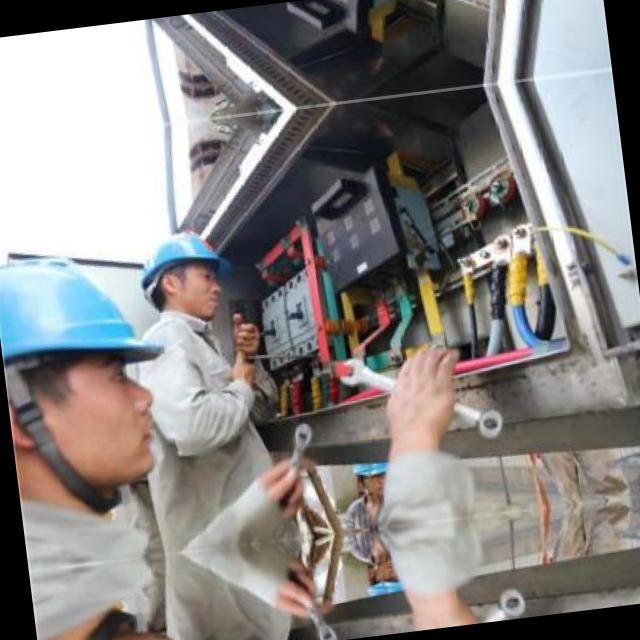helmet: (0, 234, 170, 499), (129, 216, 239, 326)
